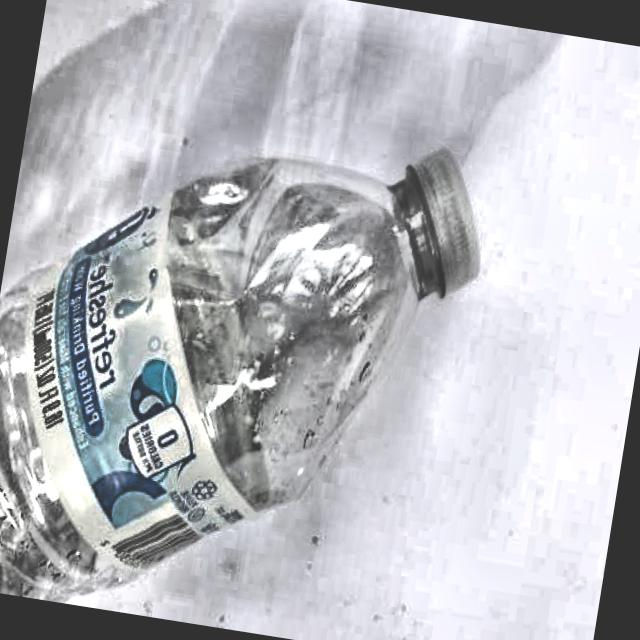plastic bottle: (0, 150, 478, 602)
